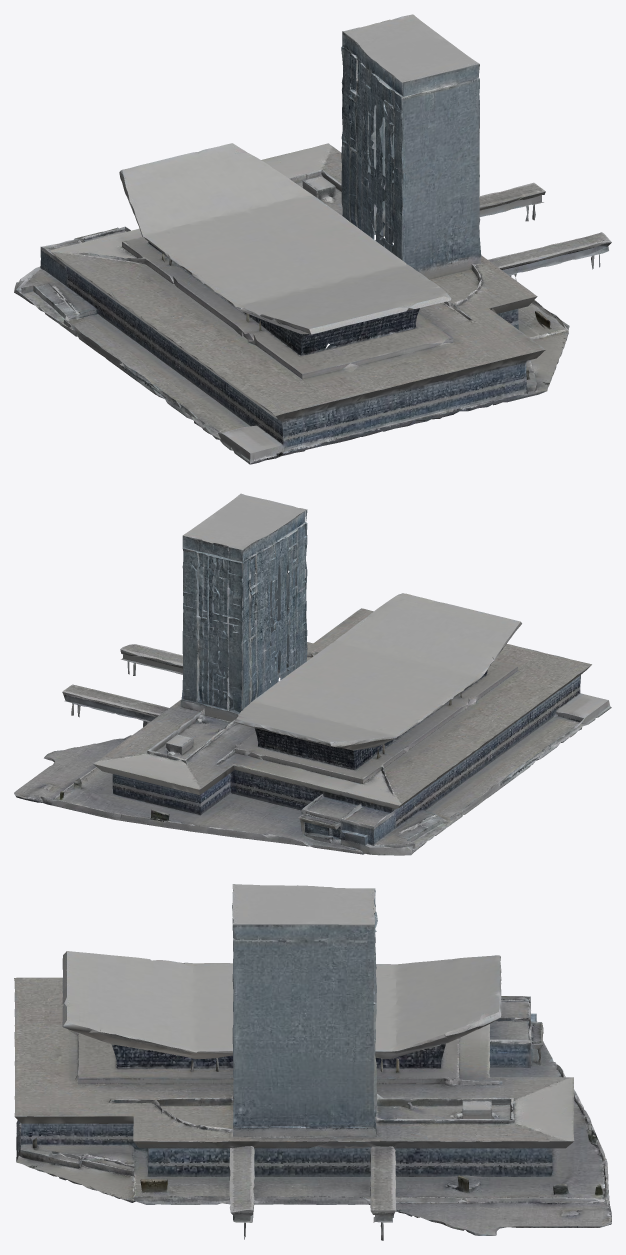
The model's file is terminal.glb.
The picture shows the model from 3 angles, top to bottom: view 1: azimuth 30°, elevation 25°; view 2: azimuth 150°, elevation 25°; view 3: azimuth 270°, elevation 25°; orthographic projection. The views are drawn at different scales.
Visible parts, largest first — view 1: terminal; view 2: terminal; view 3: terminal.
Part boxes in pixels (<box>): terminal: <box>14,14,611,464</box>; terminal: <box>14,493,611,855</box>; terminal: <box>14,884,611,1240</box>.
Size of the model in its own units: 141 by 71.71 by 150.
Materials: 1 (1 with a texture image).
